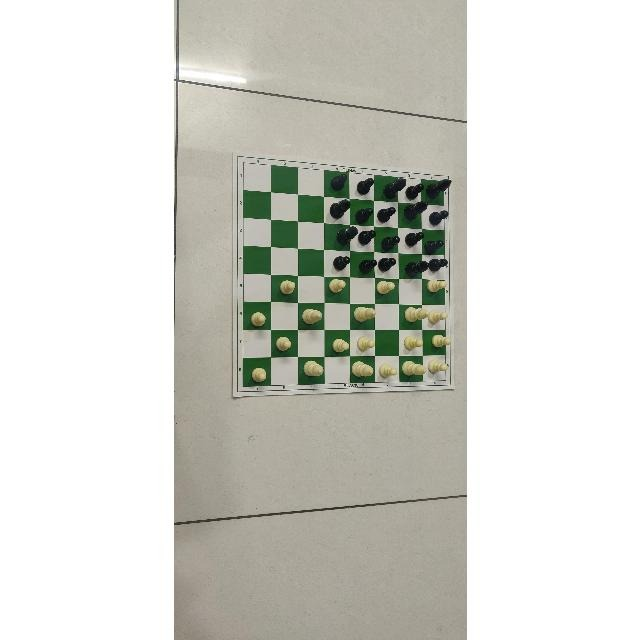black-bishop: (427, 178, 453, 198), (404, 199, 428, 220), (384, 178, 406, 200), (329, 199, 351, 220), (404, 260, 429, 277), (337, 226, 357, 244)
black-pawn: (330, 170, 348, 189), (355, 207, 374, 225), (429, 209, 448, 227), (376, 206, 396, 223), (403, 231, 424, 247), (356, 177, 374, 195), (381, 235, 400, 252), (406, 183, 424, 200), (358, 258, 375, 276), (376, 257, 396, 272), (424, 239, 445, 253), (359, 229, 375, 247), (429, 258, 447, 273), (333, 255, 350, 270)
white-bishop: (403, 306, 428, 326), (400, 360, 425, 378), (302, 359, 323, 379), (352, 306, 375, 324), (351, 360, 374, 377), (302, 308, 322, 326)
white-pawn: (402, 335, 423, 351), (425, 279, 447, 294), (278, 279, 296, 297), (356, 336, 375, 352), (428, 310, 448, 325), (431, 333, 451, 348), (428, 358, 448, 373), (250, 310, 266, 327), (249, 368, 266, 384), (328, 279, 346, 294), (376, 279, 394, 294), (379, 363, 397, 378), (332, 337, 350, 352), (274, 335, 292, 350)
